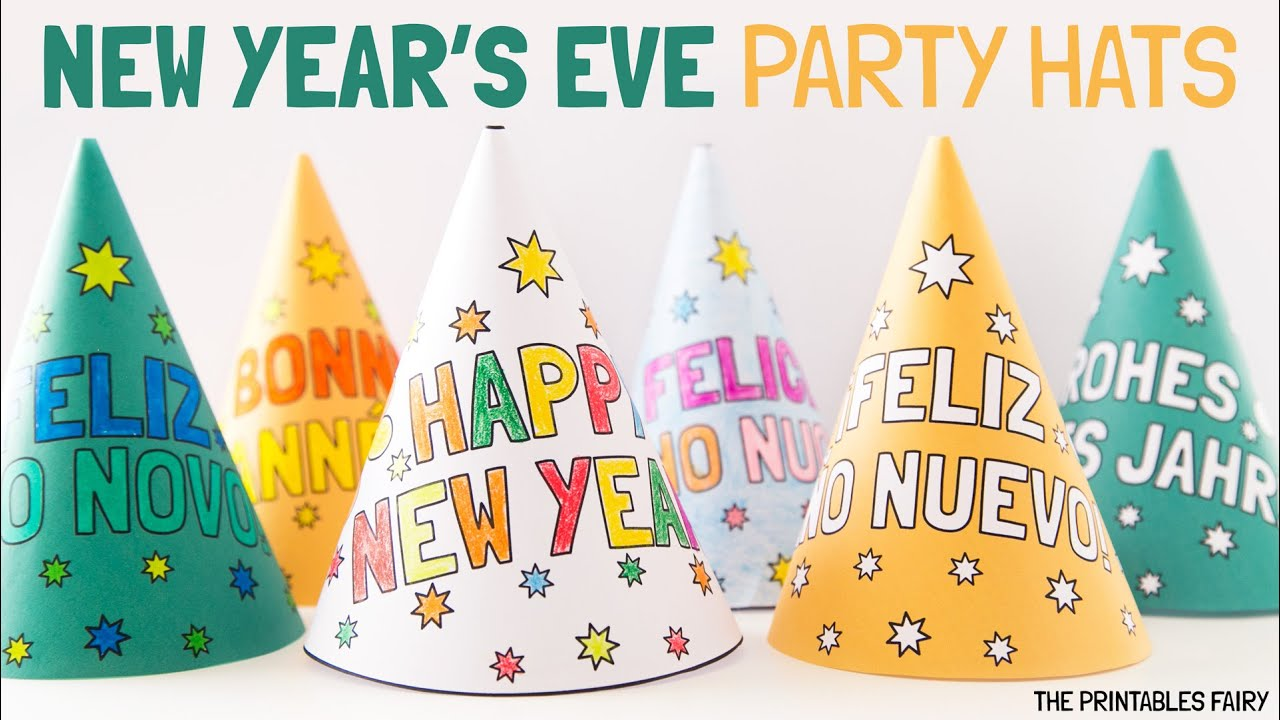cone: (303, 125, 744, 696), (764, 136, 1151, 682), (1, 138, 306, 679), (1060, 149, 1280, 612), (631, 143, 832, 607), (232, 156, 399, 607)
